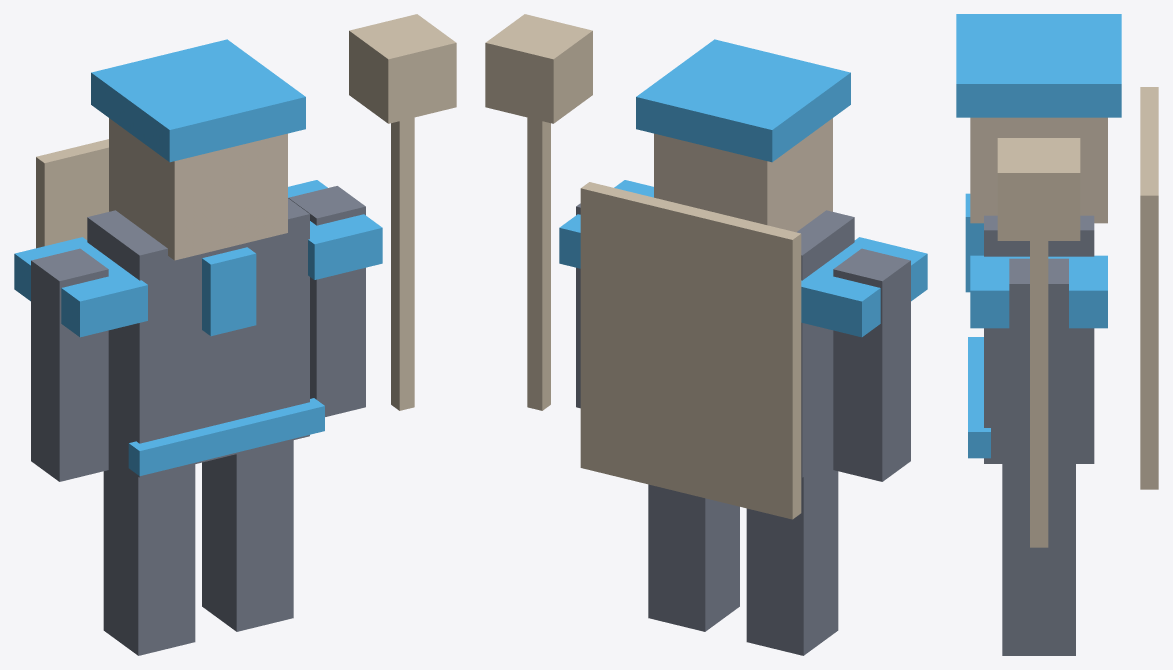
Rendered from 14_juno_holloway_broker_near_climber.glb.
The picture shows the model from 3 angles, left to right: view 1: azimuth 30°, elevation 25°; view 2: azimuth 150°, elevation 25°; view 3: azimuth 270°, elevation 25°; orthographic projection. The views are drawn at different scales.
Parts seen in each view (by area): view 1: Juno Holloway, Broker near Climber; view 2: Juno Holloway, Broker near Climber; view 3: Juno Holloway, Broker near Climber.
Boxes of the visible parts, x1,y1,x2,y2 form: Juno Holloway, Broker near Climber: (14, 14, 456, 655); Juno Holloway, Broker near Climber: (485, 14, 927, 655); Juno Holloway, Broker near Climber: (956, 14, 1158, 655).
Bounding box in the file's own units: 1.14 × 1.49 × 0.4826.
